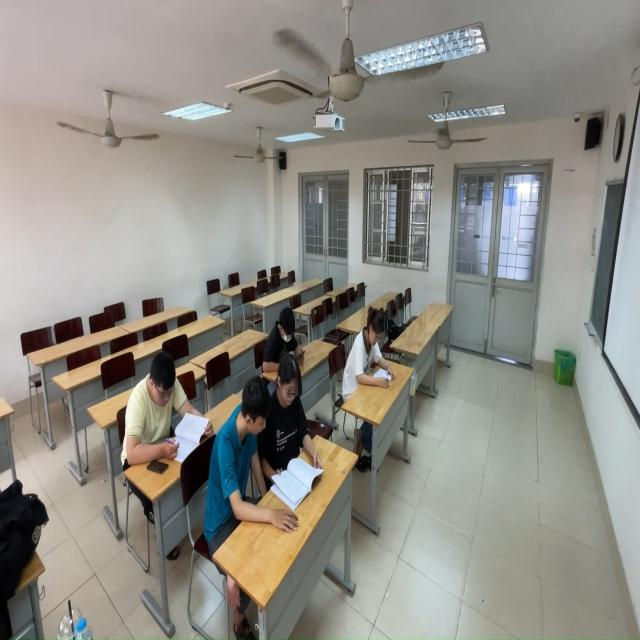read: (203, 365, 273, 542), (122, 352, 215, 471), (264, 349, 322, 504), (342, 301, 403, 404), (262, 302, 313, 371)
